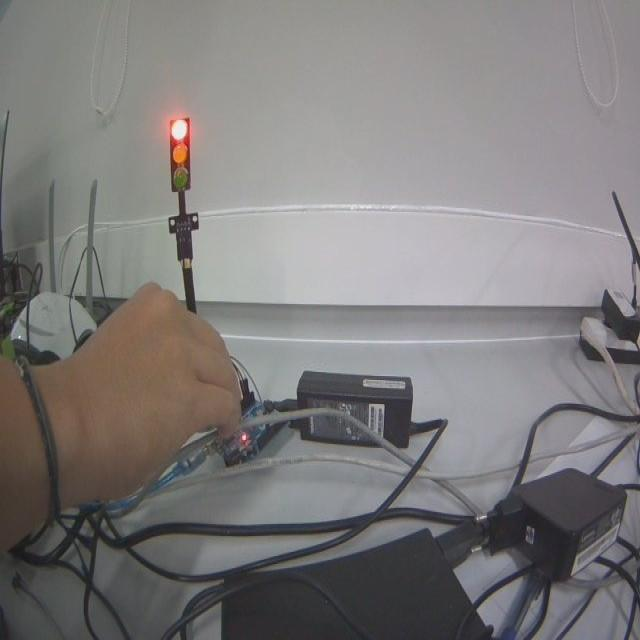Lampu Merah: (168, 116, 191, 192)
